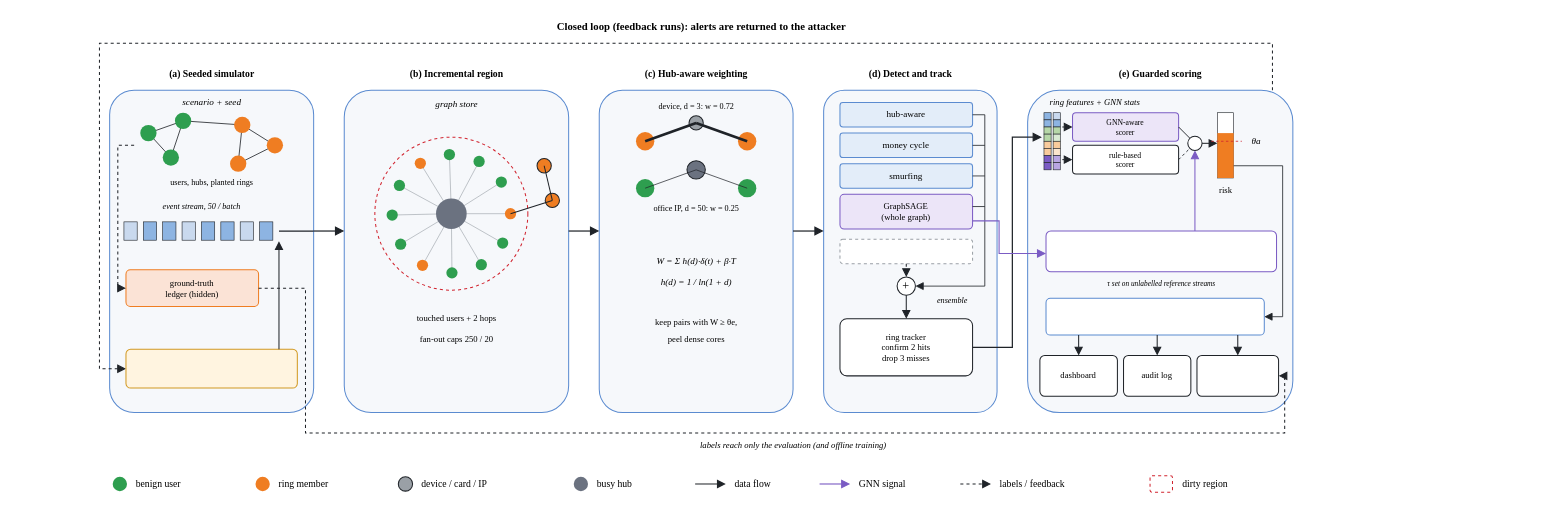
This 1565x510 diagram has some shape labels left out. Each missing label, with the box of its shape:
adaptive attacker: (125, 348, 297, 388)
baselines (timer): (839, 238, 973, 264)
evaluation: (1196, 354, 1279, 396)
explanation: contributions, evidence, counterfactual: (1045, 297, 1264, 335)
hub: (436, 198, 466, 228)
shift guard: GNN flag rate > τ → use the rule-based scorer: (1045, 230, 1277, 272)
